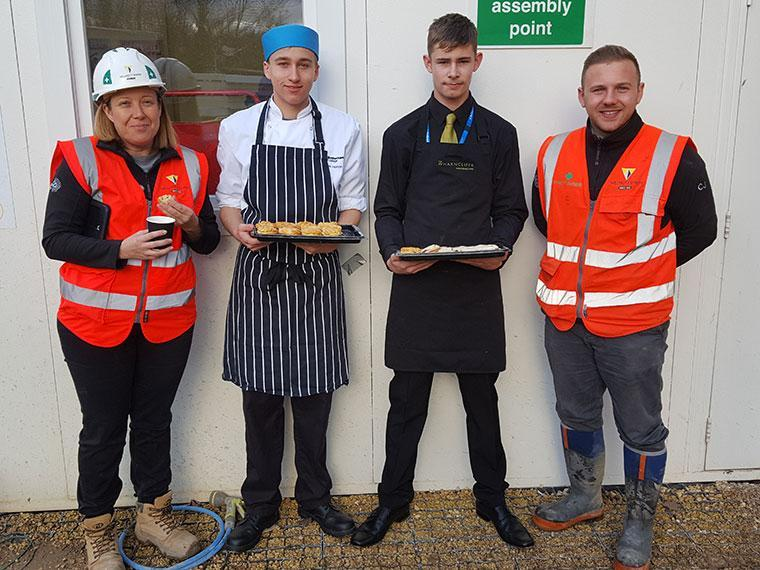helmet: (96, 44, 167, 96)
no-gloves: (119, 229, 171, 262), (382, 247, 430, 282), (164, 192, 201, 232), (465, 241, 511, 269), (226, 225, 265, 255), (299, 228, 336, 256)
no-helmet: (409, 10, 513, 57), (566, 26, 637, 89), (262, 19, 329, 57)
no-shoes: (469, 496, 537, 559), (218, 496, 284, 551), (357, 499, 410, 550), (304, 493, 357, 540)
no-vest: (231, 104, 350, 266), (400, 111, 506, 268)
person: (518, 21, 699, 559), (369, 9, 539, 570), (58, 52, 227, 566), (210, 6, 364, 539)
shoes: (611, 469, 682, 570), (545, 444, 614, 535), (123, 490, 199, 558), (66, 507, 135, 570)
vest: (82, 133, 198, 343), (547, 128, 677, 294)
